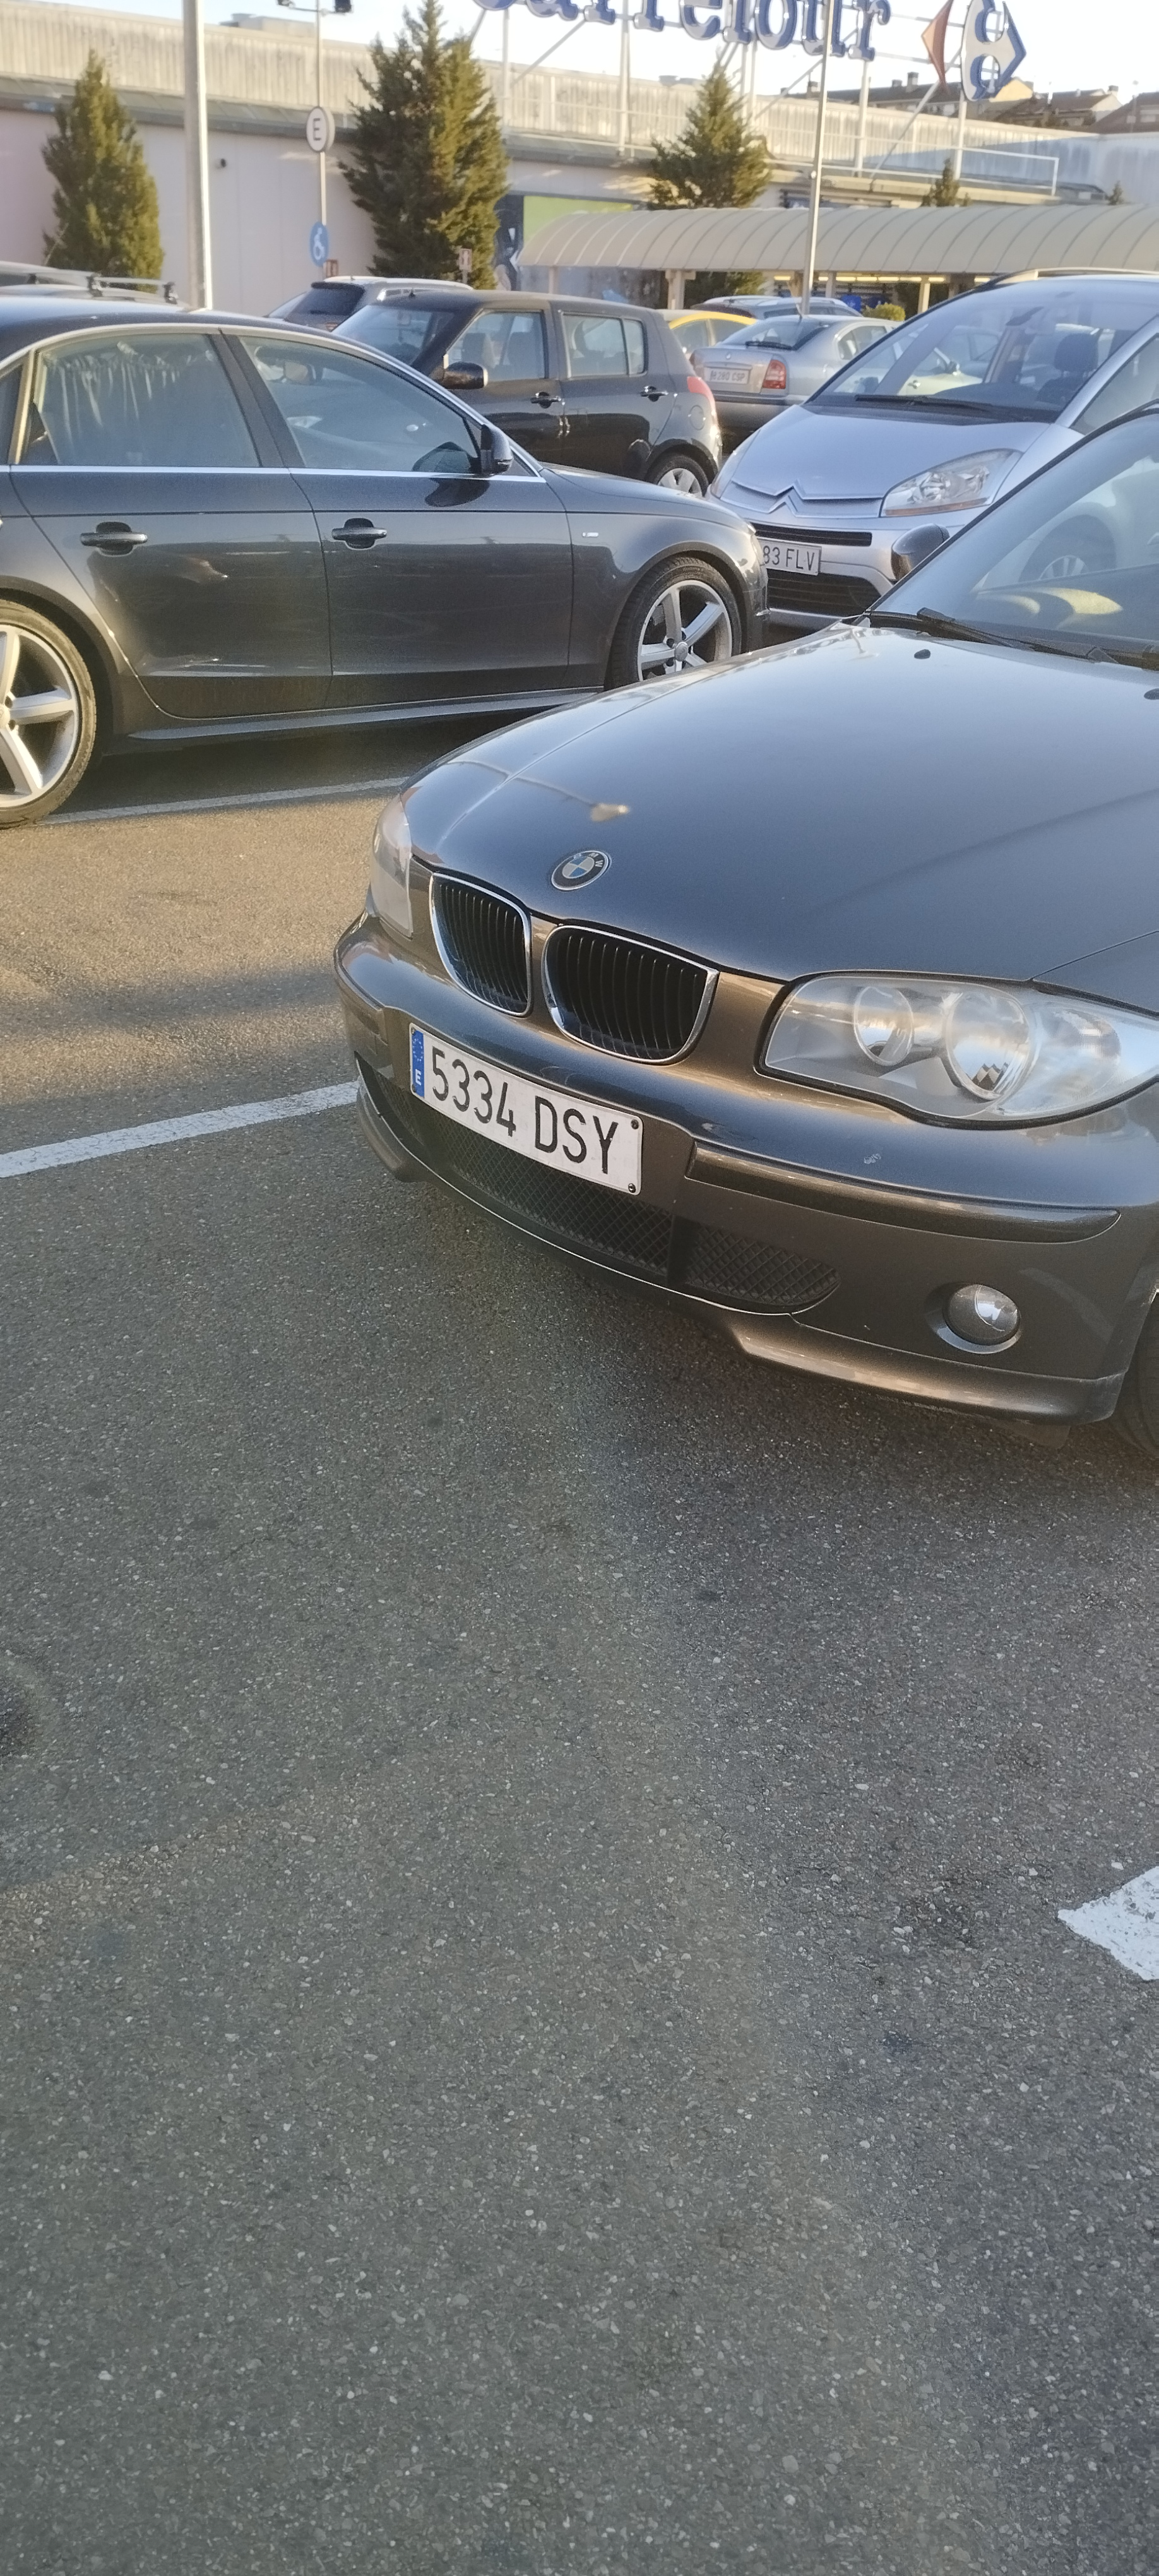Car: (345, 413, 1158, 1425), (0, 304, 727, 765), (724, 264, 1158, 626)
Plate: (425, 1034, 655, 1109)
